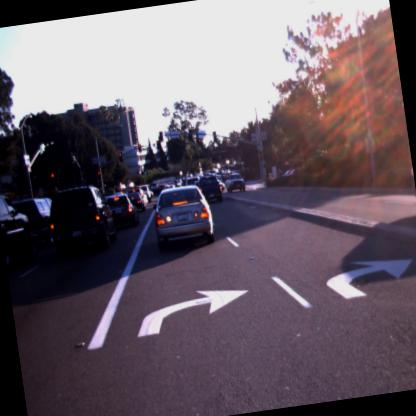trafficlight: (117, 150, 123, 164), (96, 169, 102, 181), (155, 140, 160, 150), (136, 144, 141, 152)
